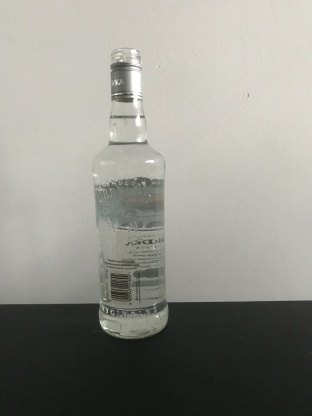nakretka: (108, 46, 144, 103)
